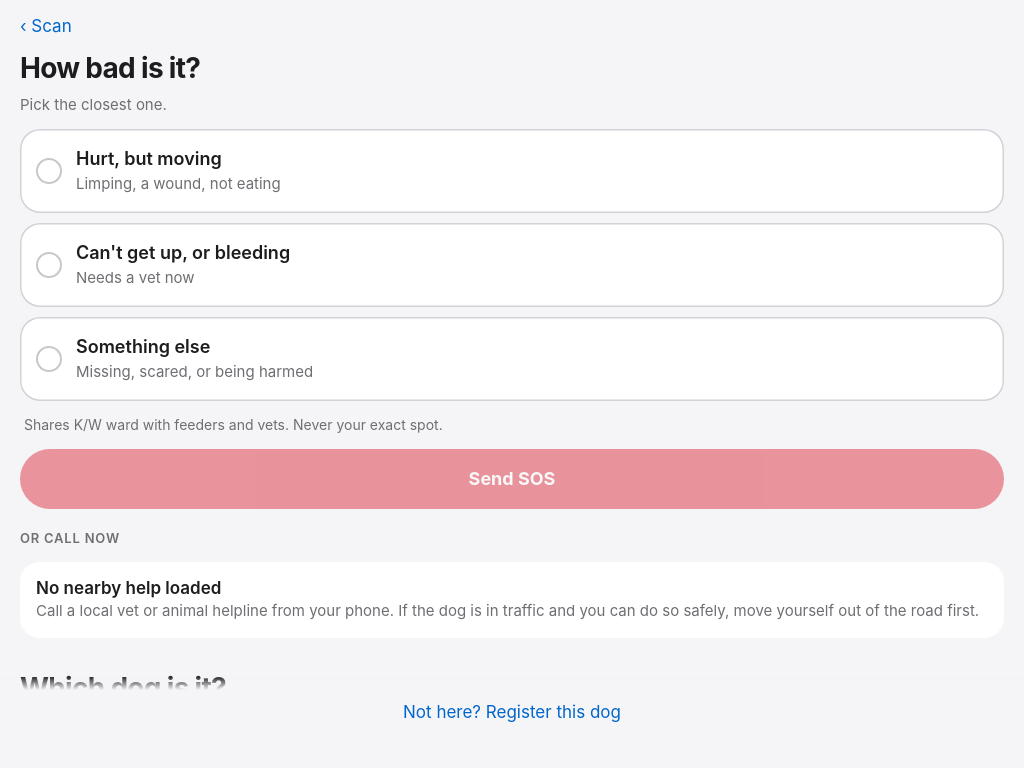
it: ?sos=1: the dogless SOS (v6 P8) › an SOS already open from this phone in this ward is shown, not doubled
The image size is (1024, 768).
Click the radio button labelled "Hurt, but moving Limping, a wound, not eating" at (149, 159), box [20,129,1004,213]
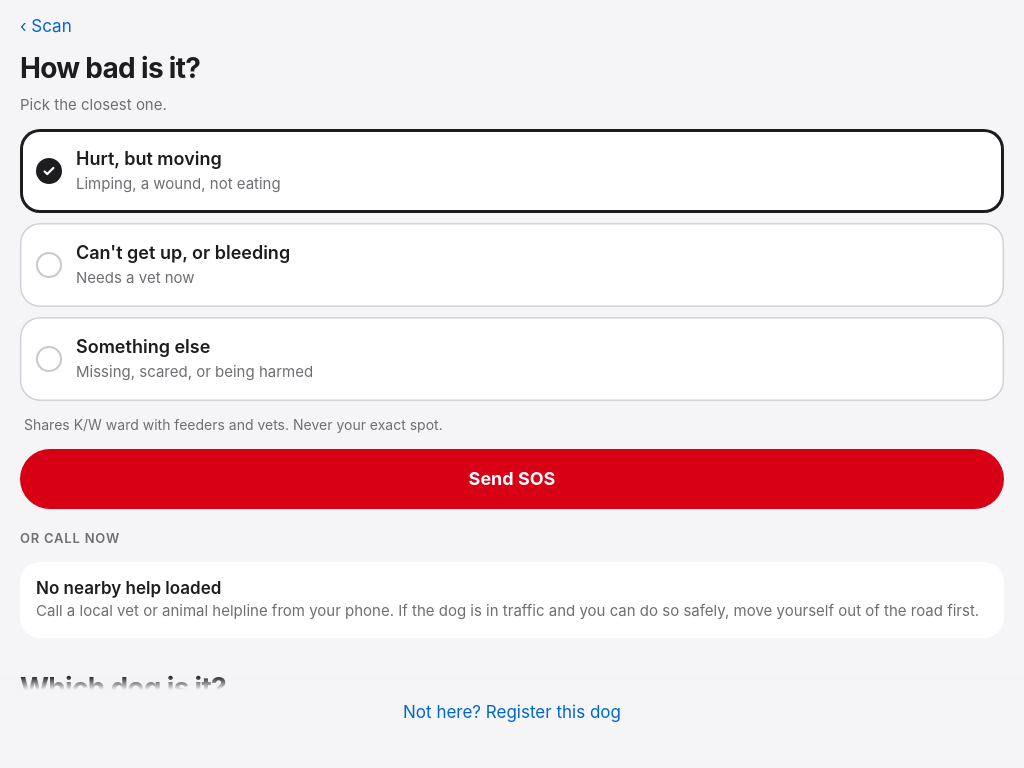
Click the button "Send SOS" at (512, 479), box [20,449,1004,509]
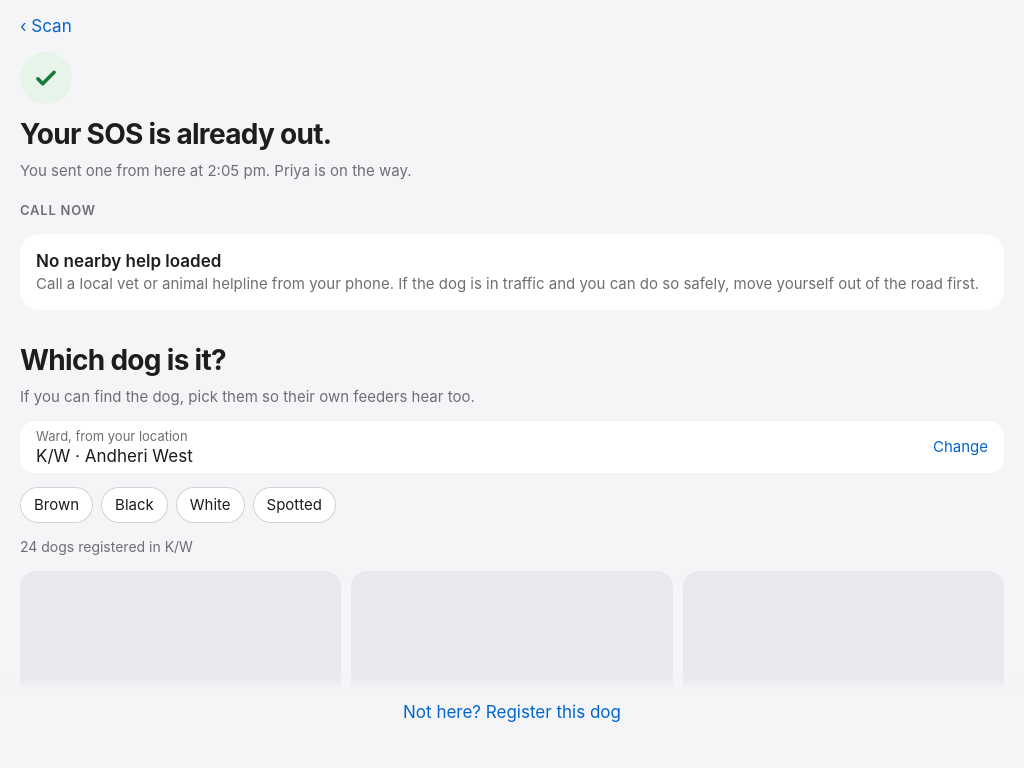
Expected: the heading "Your SOS is already out." is shown, [20,117,331,151]
Expected: the text "You sent one from here at 2:05 pm. Priya is on the way." is shown, [20,161,412,180]
